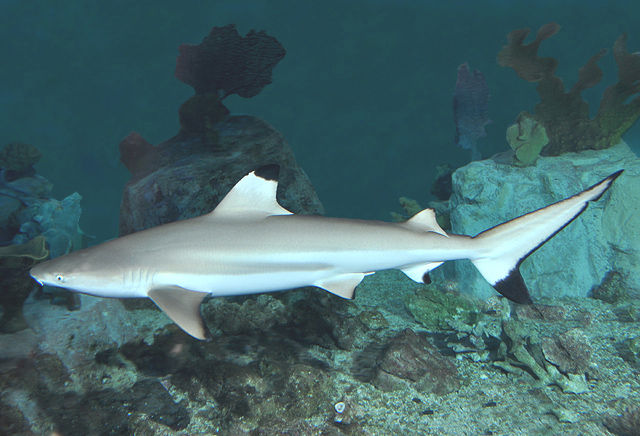fish: (29, 164, 625, 340)
